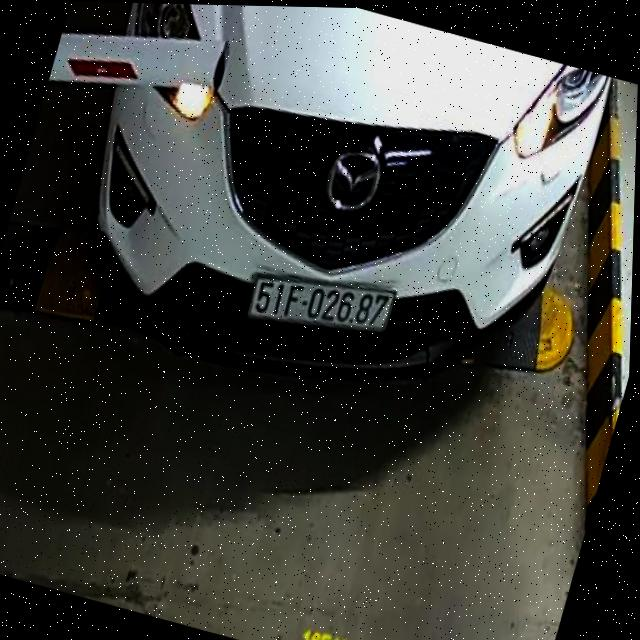car: (30, 1, 626, 456)
plate: (241, 258, 398, 356)
